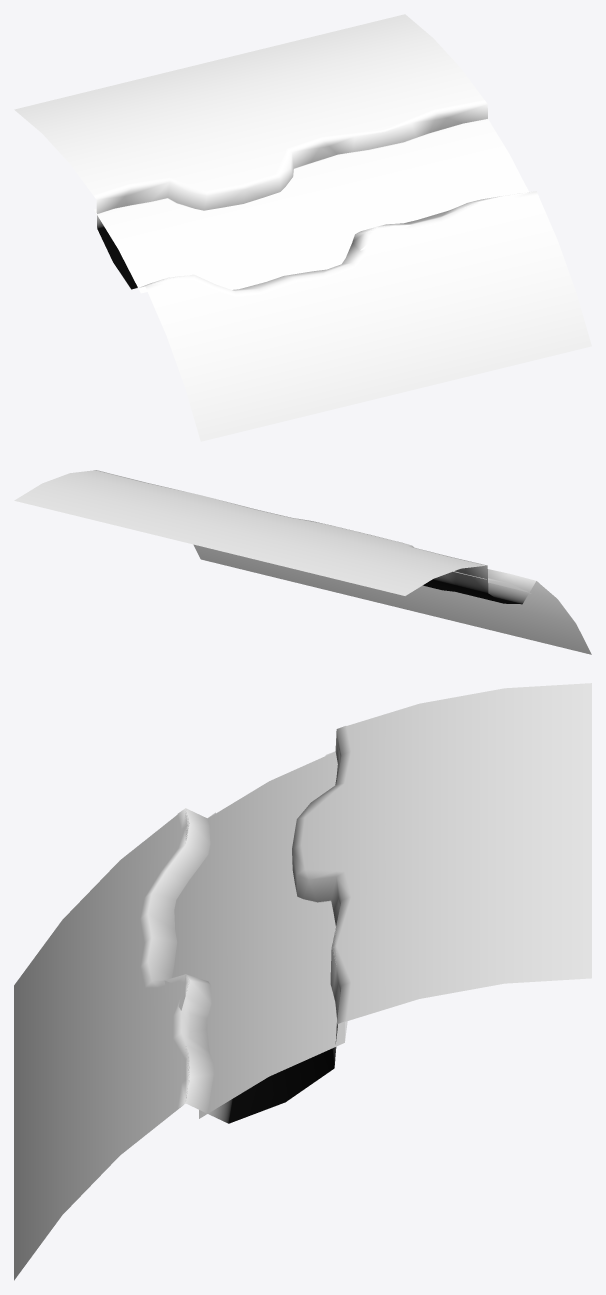
File: grd_Rw_1.dae
3 renders of one model, top to bottom at view 1: azimuth 30°, elevation 25°; view 2: azimuth 150°, elevation 25°; view 3: azimuth 270°, elevation 25°, orthographic. The views are drawn at different scales.
Parts seen in each view (by area): view 1: grd_Rw_1; view 2: grd_Rw_1; view 3: grd_Rw_1.
Part boxes in pixels (<box>): grd_Rw_1: <box>14,14,591,441</box>; grd_Rw_1: <box>14,470,591,654</box>; grd_Rw_1: <box>14,683,591,1280</box>.
Bounding box in the file's own units: 512 × 244 × 423.
Materials: 4 (1 with a texture image).
